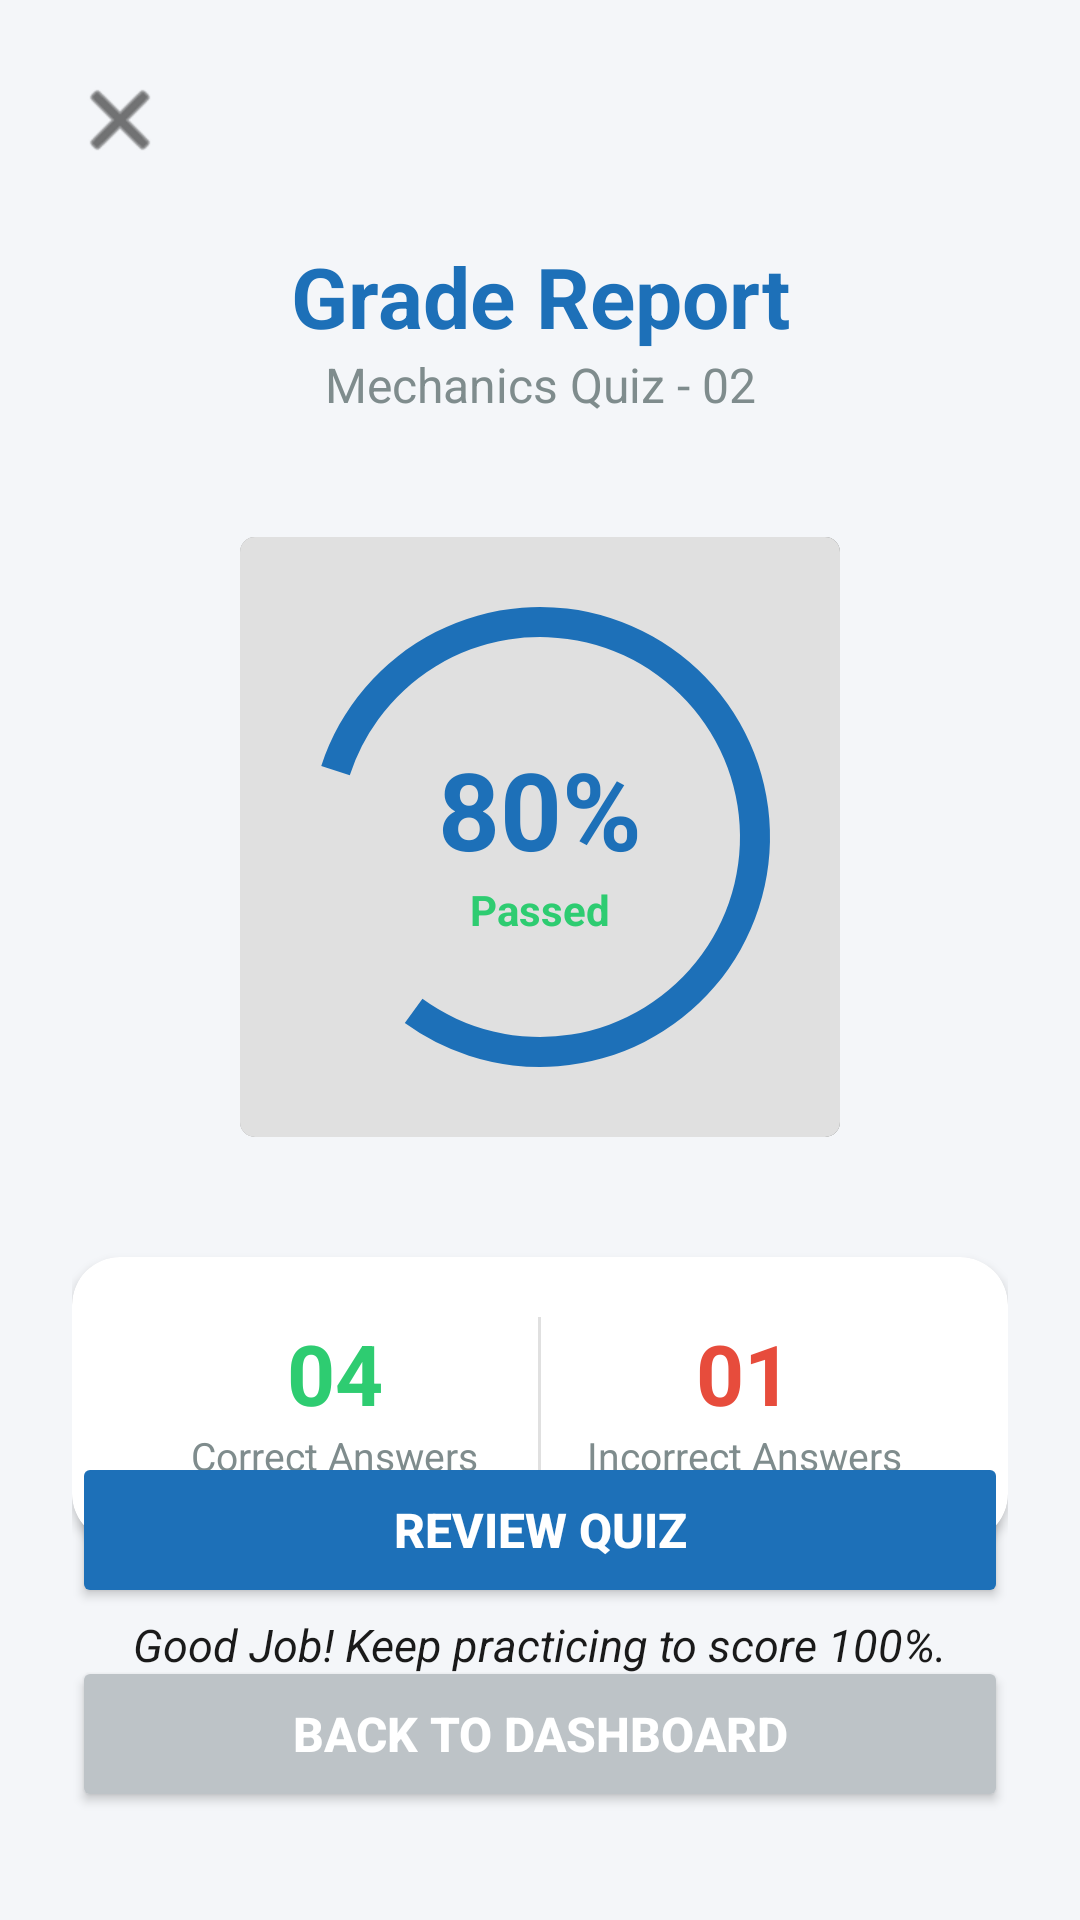

Screen size 1080w x 1920h. Icon name, then its center in pixels as (x,y):
Close: (120,120)
